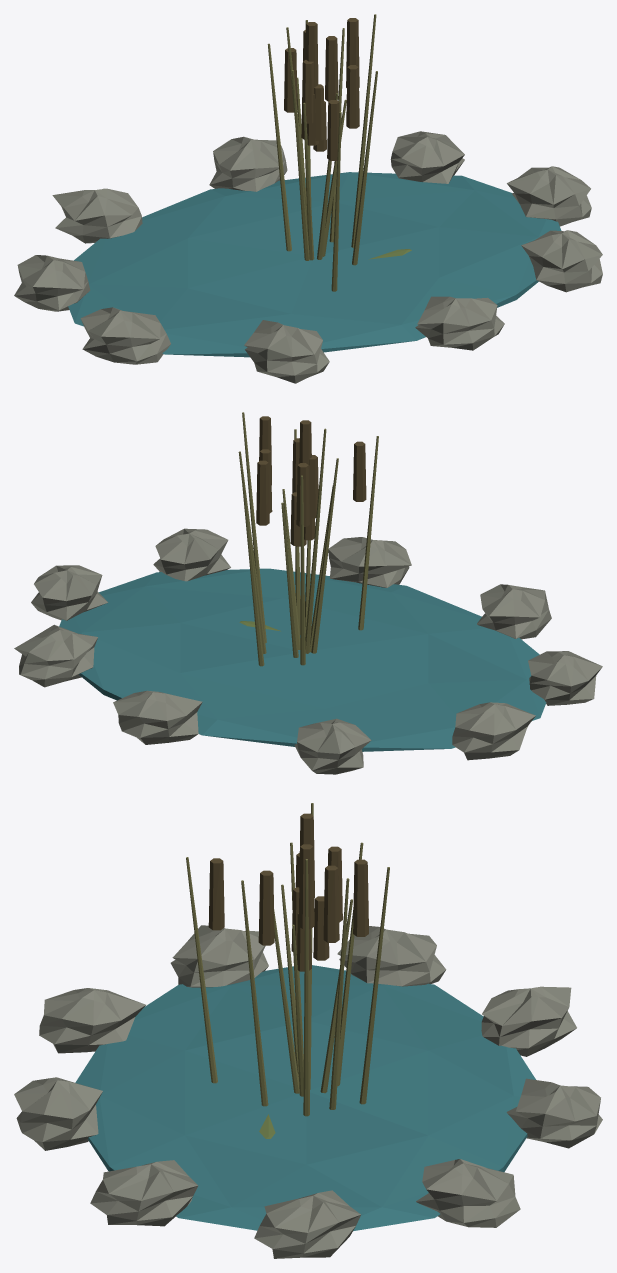
Rendered from small_pond.glb.
The picture shows the model from 3 angles, top to bottom: view 1: azimuth 30°, elevation 25°; view 2: azimuth 150°, elevation 25°; view 3: azimuth 270°, elevation 25°; orthographic projection. The views are drawn at different scales.
Visible parts, largest first — view 1: world-scenery/small_pond; view 2: world-scenery/small_pond; view 3: world-scenery/small_pond.
Boxes of the visible parts, x1,y1,x2,y2 form: world-scenery/small_pond: (14,14,602,383); world-scenery/small_pond: (14,412,602,774); world-scenery/small_pond: (14,803,602,1258).
Bounding box in the file's own units: 3.79 × 1.7 × 3.08.
